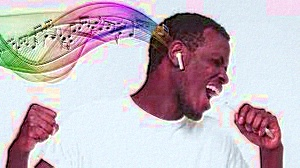earphone: (168, 41, 187, 70)
